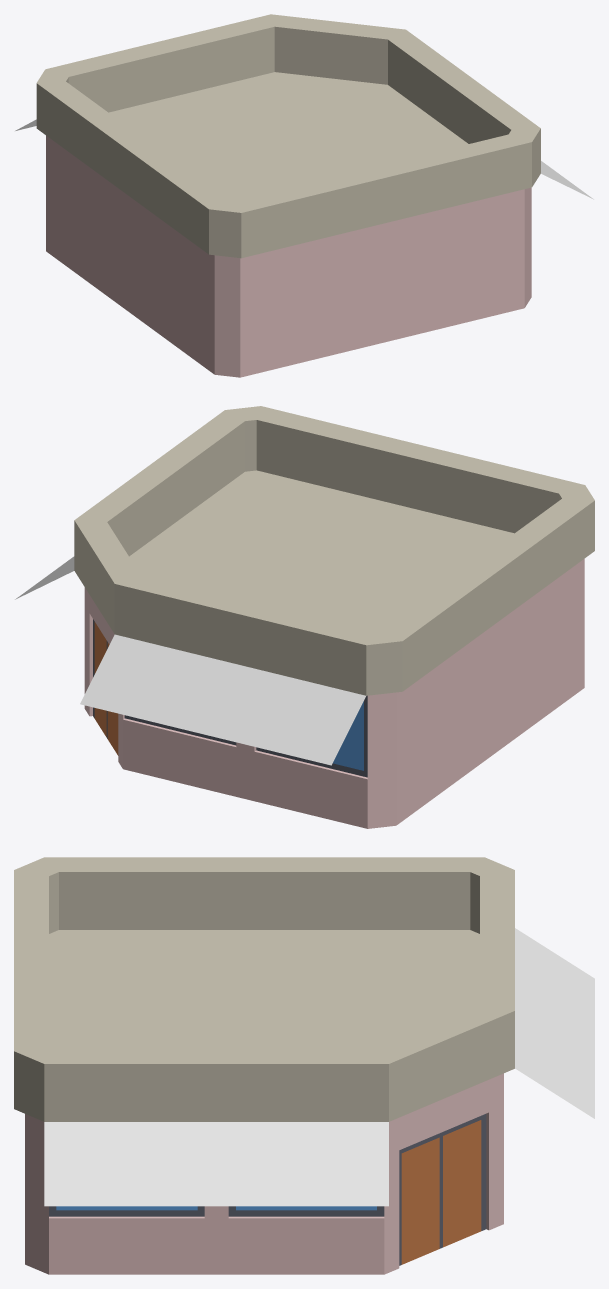
The model's file is cafe_p3.fbx.
The picture shows the model from 3 angles, top to bottom: view 1: azimuth 30°, elevation 25°; view 2: azimuth 150°, elevation 25°; view 3: azimuth 270°, elevation 25°; orthographic projection. The views are drawn at different scales.
Visible parts, largest first — view 1: Cafe1.003; view 2: Cafe1.003; view 3: Cafe1.003.
Boxes of the visible parts, x1,y1,x2,y2 form: Cafe1.003: (15, 14, 593, 377); Cafe1.003: (15, 406, 594, 828); Cafe1.003: (14, 857, 594, 1274).
Size of the model in its own units: 7130 by 2976 by 7277.
